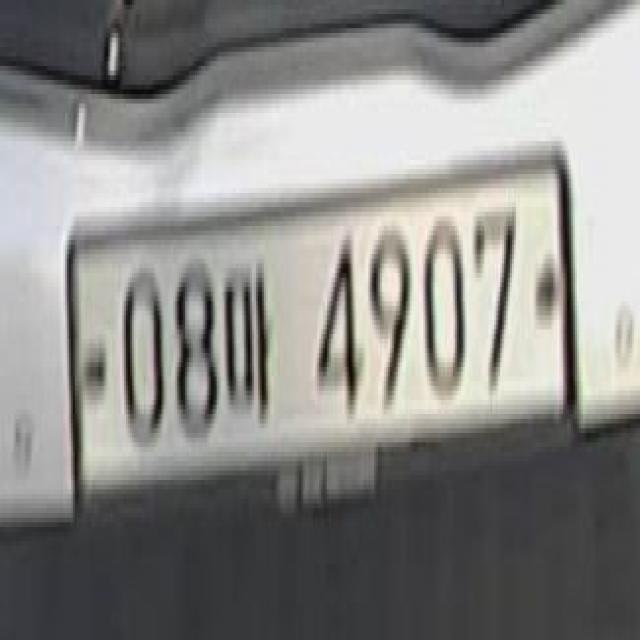illegal_plate: (68, 143, 578, 526)
